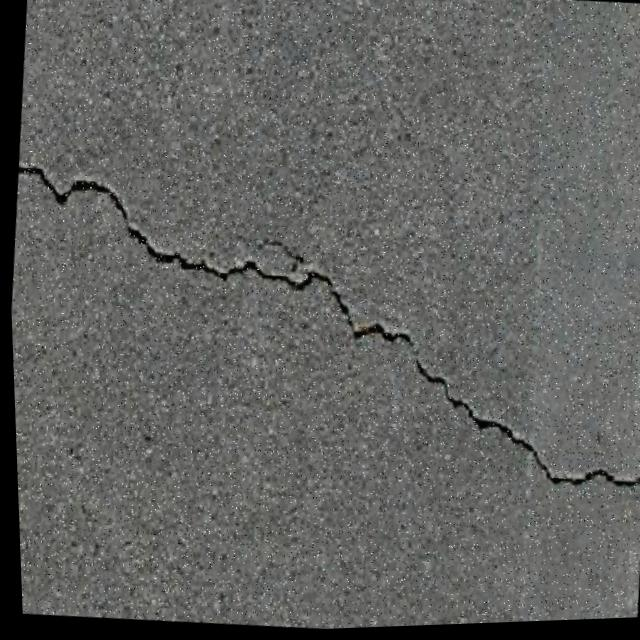Crack: (4, 118, 640, 532)
